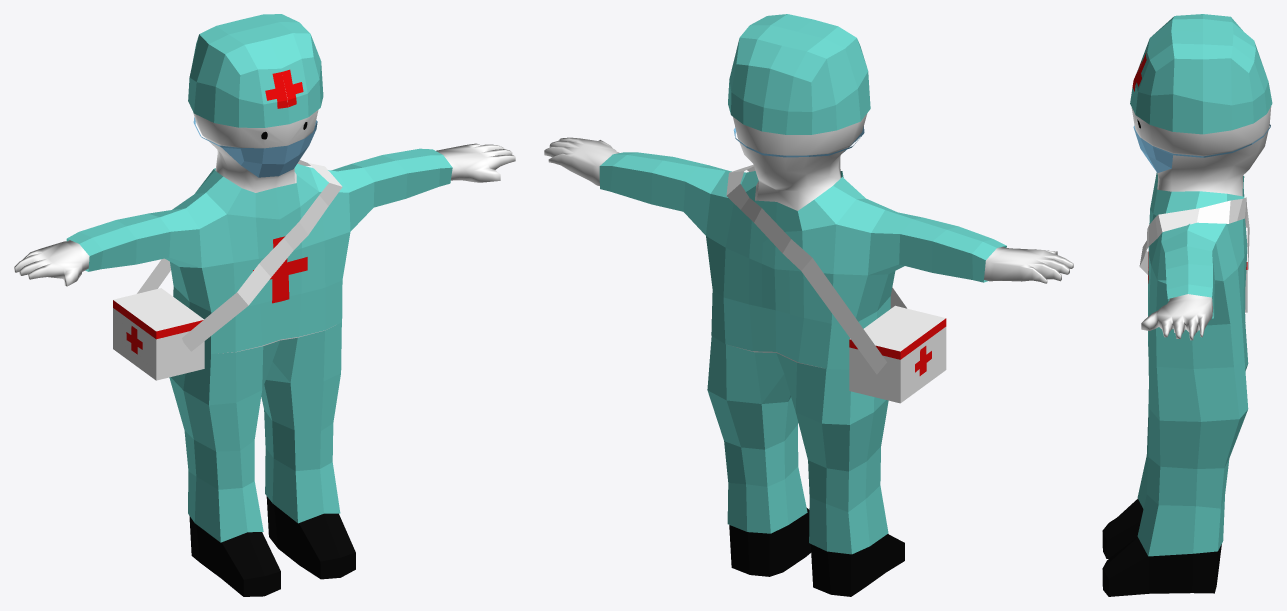
Rendered from doctor.fbx.
3 renders of one model, left to right at view 1: azimuth 30°, elevation 25°; view 2: azimuth 150°, elevation 25°; view 3: azimuth 270°, elevation 25°, orthographic. The views are drawn at different scales.
Visible parts, largest first — view 1: Cube.002, Cube.004, Cube.001, Cube.007, Cube.005, Cube, Cube.003; view 2: Cube.002, Cube.004, Cube.001, Cube, Cube.007, Cube.005; view 3: Cube.004, Cube.002, Cube.001, Cube, Cube.005, Cube.007, Cube.003.
Part boxes in pixels (bbox=[...]): Cube.002: bbox=[66, 148, 452, 353]; Cube.004: bbox=[169, 322, 341, 542]; Cube.001: bbox=[188, 14, 323, 127]; Cube.007: bbox=[113, 160, 342, 380]; Cube.005: bbox=[189, 496, 355, 596]; Cube: bbox=[14, 110, 515, 353]; Cube.003: bbox=[193, 117, 317, 177]; Cube.002: bbox=[599, 152, 1006, 369]; Cube.004: bbox=[707, 336, 888, 554]; Cube.001: bbox=[728, 14, 870, 134]; Cube: bbox=[544, 113, 1073, 367]; Cube.007: bbox=[726, 164, 946, 403]; Cube.005: bbox=[729, 508, 904, 596]; Cube.004: bbox=[1137, 324, 1248, 556]; Cube.002: bbox=[1148, 172, 1247, 368]; Cube.001: bbox=[1130, 14, 1272, 134]; Cube: bbox=[1131, 106, 1271, 340]; Cube.005: bbox=[1102, 499, 1221, 596]; Cube.007: bbox=[1139, 197, 1249, 312]; Cube.003: bbox=[1133, 124, 1270, 172].
Bounding box in the file's own units: 578 × 591 × 168.
